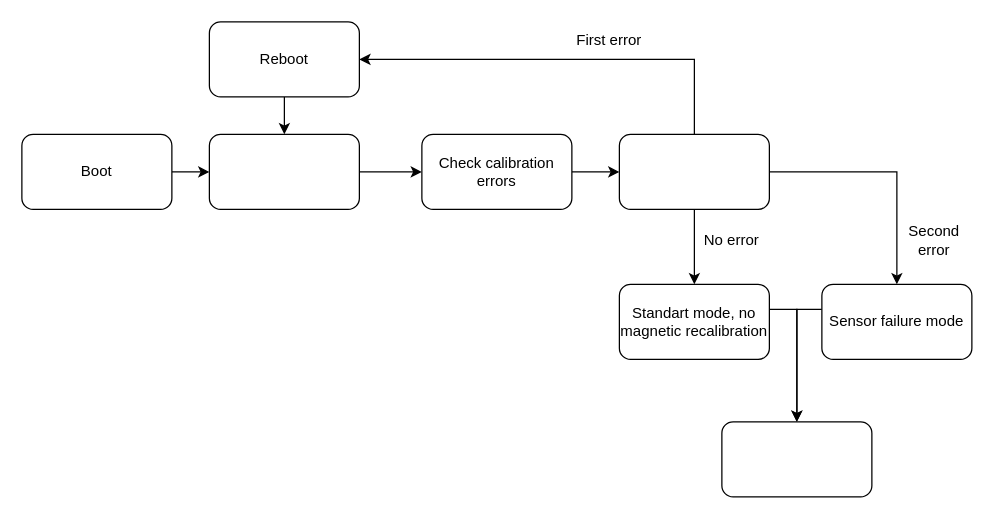
This 994x519 diagram has some shape labels left out. The shapes that lost their labels are listed below. From the top down, each one's centre as x and y in pixels, then its label:
At pixel 283 171: "Check for init errors".
At pixel 693 171: "Check if all system work correct".
At pixel 796 459: "Continue operation".
